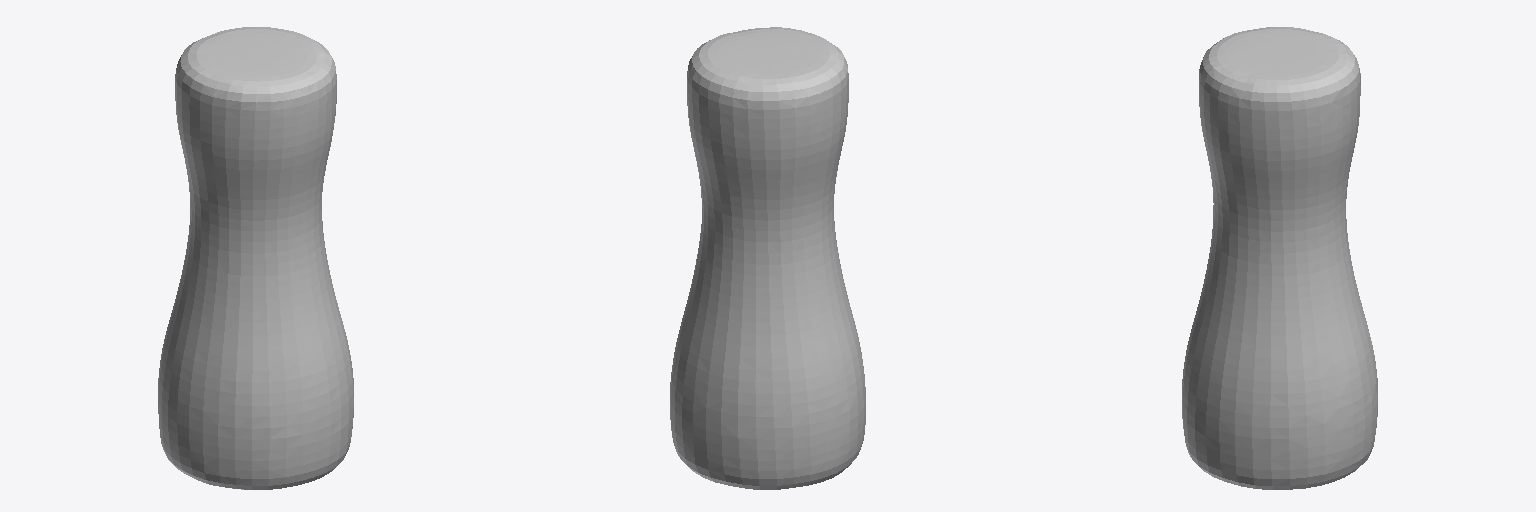
The model's file is VaseSculpt01.obj.
The picture shows the model from 3 angles: view 1: azimuth 30°, elevation 25°; view 2: azimuth 150°, elevation 25°; view 3: azimuth 270°, elevation 25°; orthographic projection.
Parts seen in each view (by area): view 1: Group49842; view 2: Group49842; view 3: Group49842.
Boxes of the visible parts, x1=… form: Group49842: x1=158, y1=27, x2=353, y2=489; Group49842: x1=670, y1=27, x2=865, y2=489; Group49842: x1=1182, y1=27, x2=1377, y2=489.
Size of the model in its own units: 21.99 by 49.99 by 22.03.